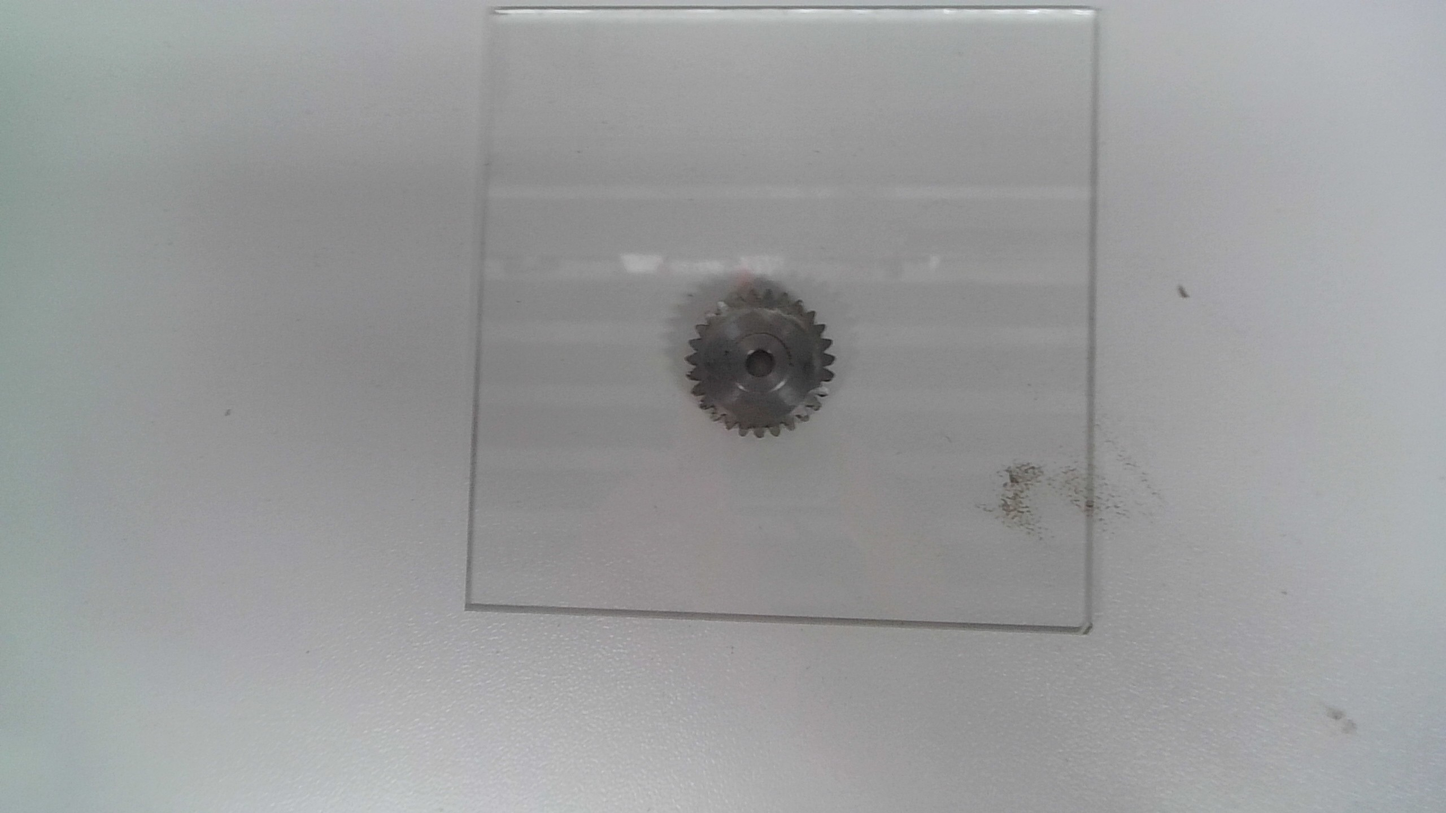gear: (686, 288, 837, 440)
